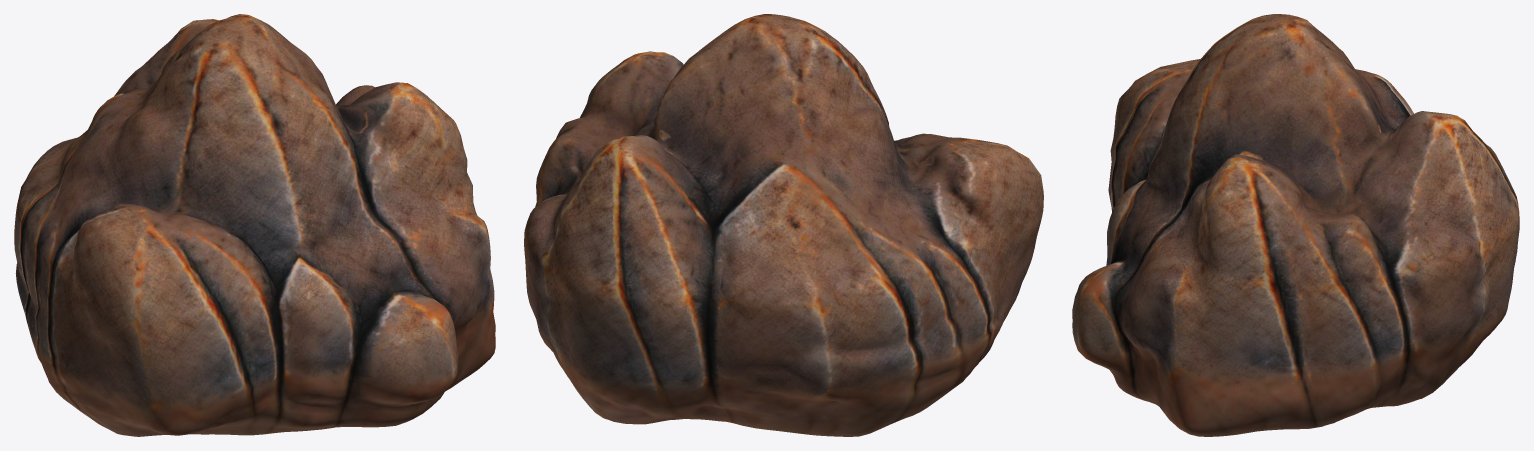
The model's file is f5f4bbe5898f_Jagged_Martian_Clay.fbx.
The picture shows the model from 3 angles, left to right: view 1: azimuth 30°, elevation 25°; view 2: azimuth 150°, elevation 25°; view 3: azimuth 270°, elevation 25°; orthographic projection. The views are drawn at different scales.
Parts seen in each view (by area): view 1: mesh; view 2: mesh; view 3: mesh.
Part boxes in pixels (left/top/right/bottom): mesh: left=14, top=14, right=495, bottom=436; mesh: left=524, top=14, right=1043, bottom=436; mesh: left=1072, top=14, right=1519, bottom=436.
Size of the model in its own units: 99.28 by 86.81 by 99.9.
